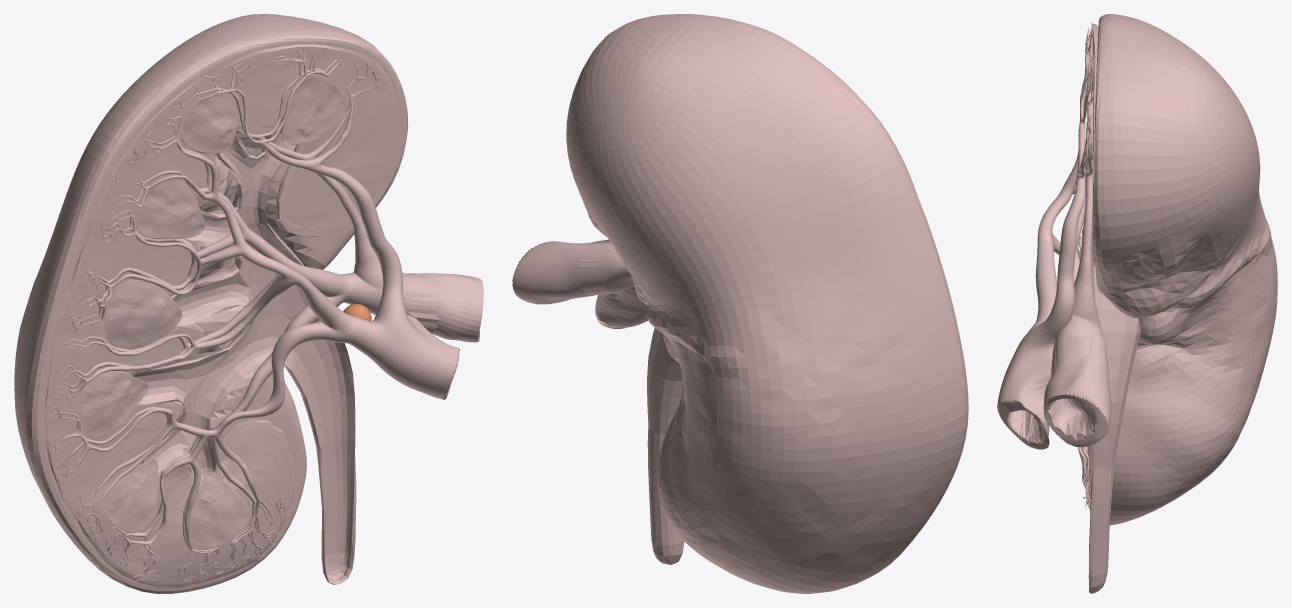
The model's file is kidney_17640b00.glb.
3 renders of one model, left to right at view 1: azimuth 30°, elevation 25°; view 2: azimuth 150°, elevation 25°; view 3: azimuth 270°, elevation 25°, orthographic. The views are drawn at different scales.
Parts seen in each view (by area): view 1: world; view 2: world; view 3: world.
Part boxes in pixels (x1,y1,x2,y2): world: (14, 14, 483, 593); world: (512, 14, 968, 593); world: (997, 14, 1277, 593).
Bounding box in the file's own units: 8.47 × 10.1 × 4.88.
